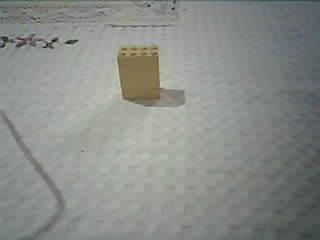lego: (116, 43, 161, 100)
